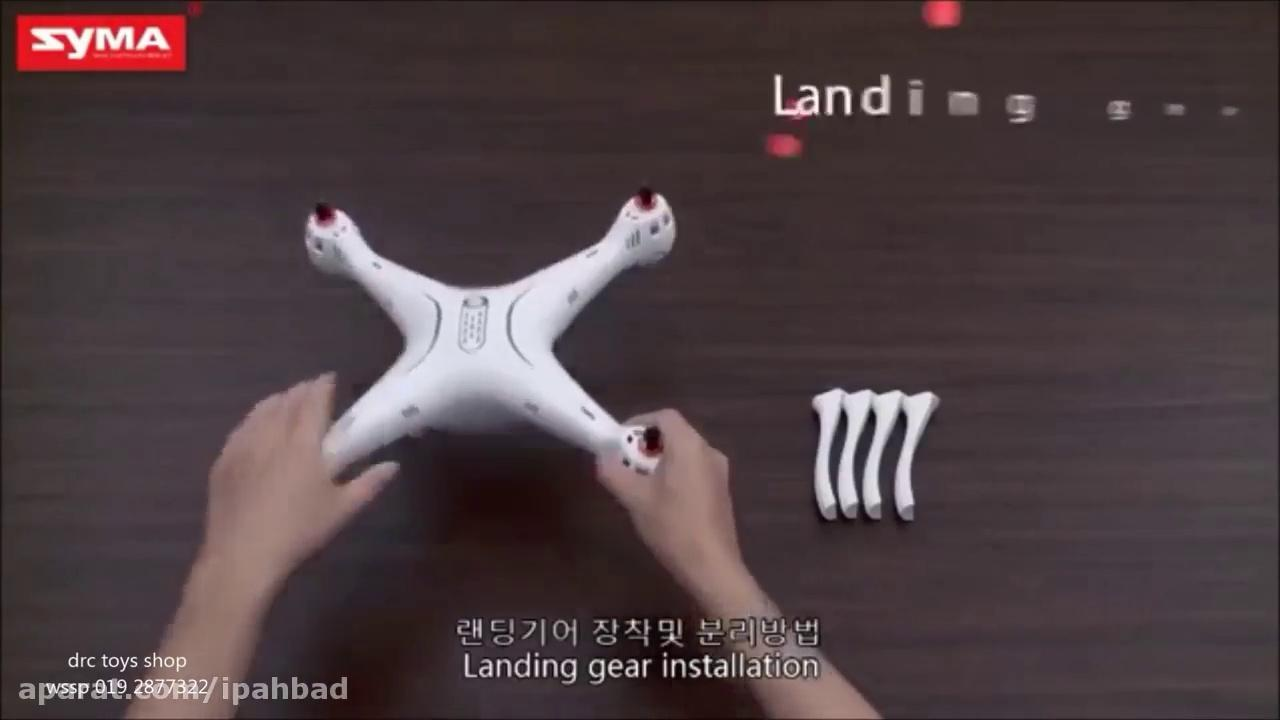drone: (303, 177, 692, 483)
